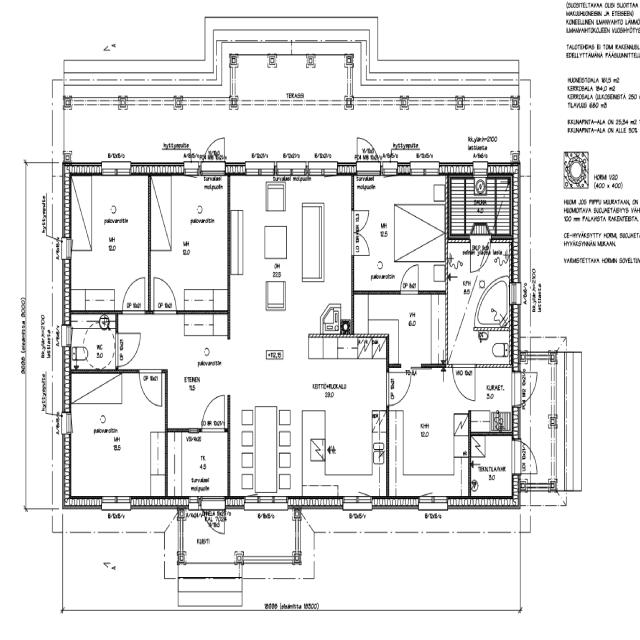door: (200, 391, 229, 432), (150, 273, 179, 314), (120, 273, 148, 314), (137, 368, 165, 408), (354, 134, 380, 176), (386, 367, 412, 408), (115, 330, 143, 368), (201, 135, 228, 174), (452, 362, 476, 402), (352, 208, 371, 256), (202, 503, 226, 538), (398, 262, 422, 294), (516, 441, 535, 472), (519, 372, 538, 402)
window: (245, 491, 289, 510), (305, 160, 341, 181), (242, 160, 279, 180), (99, 160, 134, 179), (340, 492, 375, 511), (100, 492, 134, 510), (408, 162, 442, 179), (417, 492, 450, 509), (58, 411, 72, 438), (180, 162, 200, 179), (62, 235, 74, 262), (528, 483, 552, 495), (510, 280, 520, 304), (64, 324, 73, 348), (512, 374, 518, 409)
zone: (230, 342, 388, 493), (230, 175, 352, 342), (66, 372, 166, 500), (67, 174, 151, 312), (150, 175, 230, 311), (354, 175, 447, 291), (388, 367, 469, 498), (448, 240, 514, 364), (166, 429, 228, 499), (469, 433, 516, 500), (68, 313, 117, 373)
